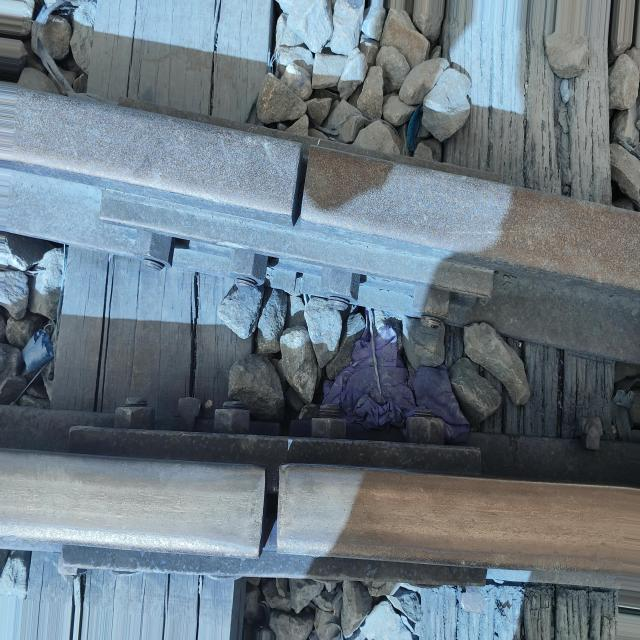Good Joint: (62, 426, 464, 579), (100, 189, 494, 319)
